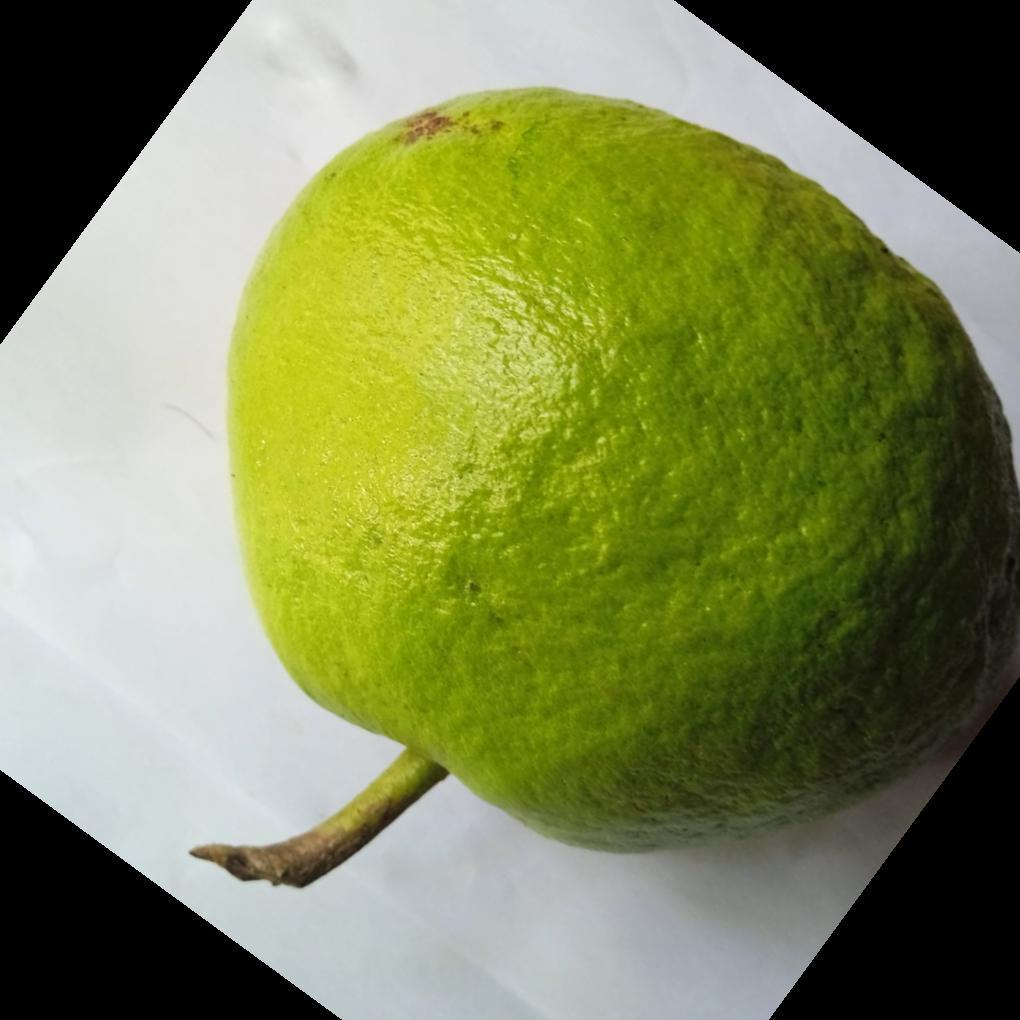FreshGuava: (219, 87, 1020, 890)
